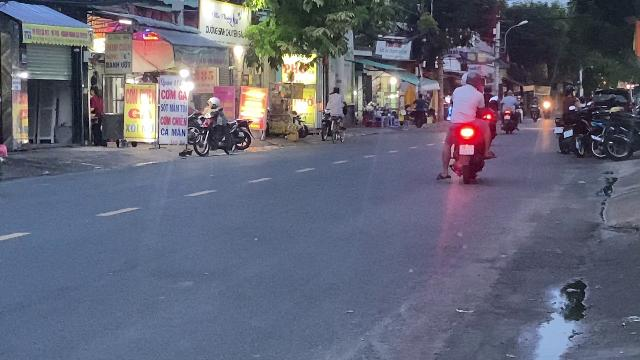helmet: (463, 70, 483, 88)
licenseplate: (460, 144, 474, 154)
motorcyclist: (438, 66, 497, 184)
